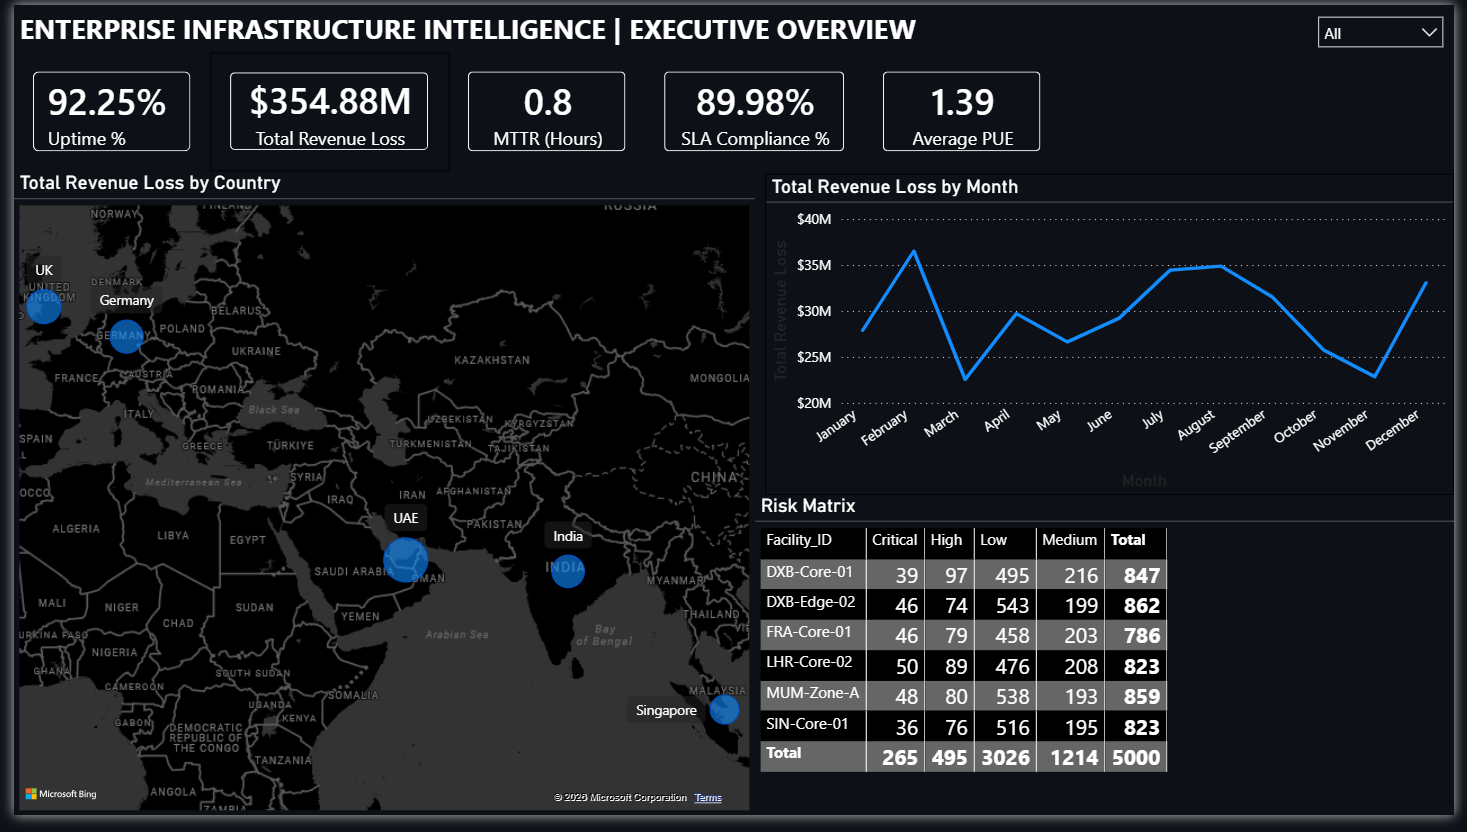

Layout of this report page (visuals, bound fields, positions):
{"tool":"powerbi","page":{"name":"ENTERPRISE INFRASTRUCTURE INTELLIGENCE","canvas":[1280,720],"ordinal":0},"visuals":[{"type":"textbox","box":[0,0,832.9,42.5],"z":0},{"type":"slicer","fields":{"Values":["Facility_Master.Facility_ID"]},"box":[1148.5,0,131.7,42.5],"z":1000},{"type":"cardVisual","fields":{"Data":["Incidents.Uptime %"]},"box":[0,42.5,174.3,105.7],"z":2000},{"type":"cardVisual","fields":{"Data":["Incidents.Total Revenue Loss"]},"box":[174.3,42.5,212.7,105.7],"z":3000},{"type":"cardVisual","fields":{"Data":["Incidents.MTTR (Hours)"]},"box":[387,42.5,174.3,105.7],"z":4000},{"type":"cardVisual","fields":{"Data":["Incidents.SLA Compliance %"]},"box":[561.2,42.5,194.9,105.7],"z":5000},{"type":"cardVisual","fields":{"Data":["Energy_Cooling.Average PUE"]},"box":[756.1,42.5,174.3,105.7],"z":6000},{"type":"map","fields":{"Category":["Facility_Master.Country"],"Size":["Incidents.Total Revenue Loss"]},"box":[0,148.2,658.7,572.2],"z":7000},{"type":"lineChart","fields":{"Category":["Incidents.Date.Variation.Date Hierarchy.Year","Incidents.Date.Variation.Date Hierarchy.Quarter","Incidents.Date.Variation.Date Hierarchy.Month","Incidents.Date.Variation.Date Hierarchy.Day"],"Y":["Incidents.Total Revenue Loss"]},"box":[668.3,149.6,612,285.4],"z":8000},{"type":"pivotTable","title":"Risk Matrix","fields":{"Rows":["Incidents.Facility_ID"],"Columns":["Incidents.Severity"],"Values":["Count(Incidents.Incident_ID)"]},"box":[658.7,435,621.6,285.4],"z":9000}]}

Visuals, with their boxes in screenshot pixels (x1, y1, x2, y2), scaled from the page's 1280x720 canvas onto the 1467x832 screenshot:
textbox: box=[0, 0, 955, 49]
slicer - Facility_Master.Facility_ID: box=[1316, 0, 1466, 49]
cardVisual - Incidents.Uptime %: box=[0, 49, 200, 171]
cardVisual - Incidents.Total Revenue Loss: box=[200, 49, 444, 171]
cardVisual - Incidents.MTTR (Hours): box=[444, 49, 643, 171]
cardVisual - Incidents.SLA Compliance %: box=[643, 49, 867, 171]
cardVisual - Energy_Cooling.Average PUE: box=[867, 49, 1066, 171]
map - Facility_Master.Country x Incidents.Total Revenue Loss: box=[0, 171, 755, 831]
lineChart - Incidents.Date.Variation.Date Hierarchy.Year x Incidents.Date.Variation.Date Hierarchy.Quarter: box=[766, 173, 1466, 503]
"Risk Matrix" pivotTable: box=[755, 503, 1466, 831]
